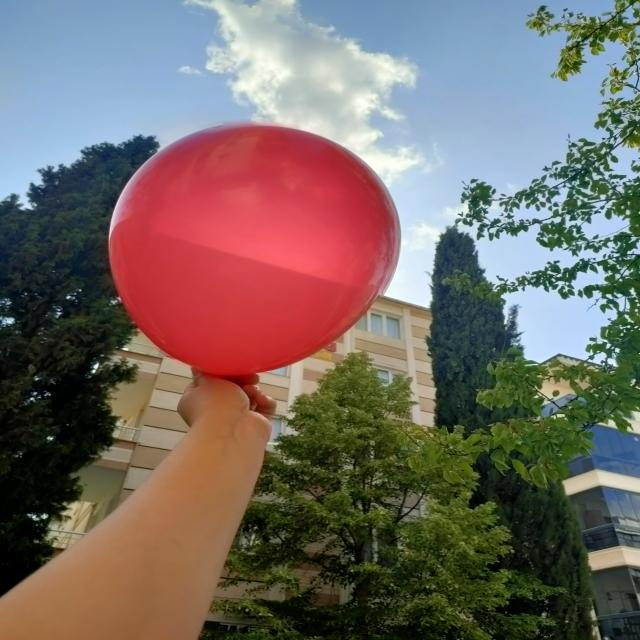red: (109, 123, 401, 377)
